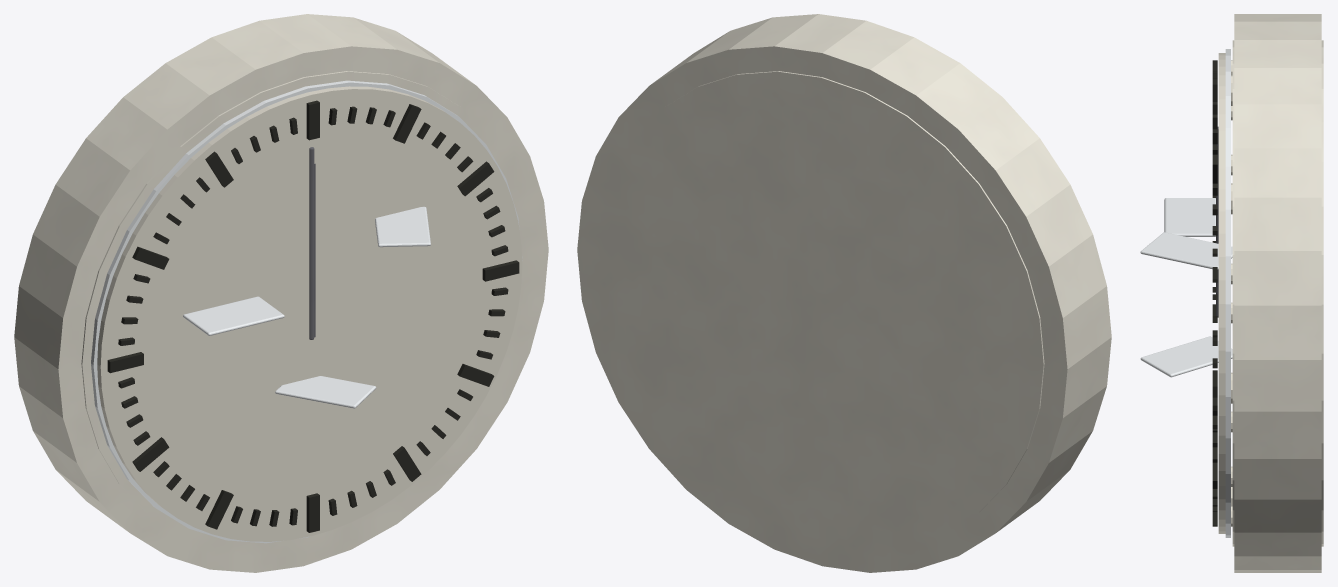
Rendered from PRP_WallClock_Broken.fbx.
3 renders of one model, left to right at view 1: azimuth 30°, elevation 25°; view 2: azimuth 150°, elevation 25°; view 3: azimuth 270°, elevation 25°, orthographic.
Parts seen in each view (by area): view 1: Clock_Body, Clock_Glass_Gone, Clock_Shard_01, Clock_Shard_03, Clock_Shard_02, Clock_Hand_S; view 2: Clock_Body; view 3: Clock_Body, Clock_Glass_Gone, Clock_Shard_01, Clock_Shard_03, Clock_Shard_02, Clock_Hand_S.
Boxes of the visible parts, x1,y1,x2,y2 form: Clock_Body: (14,14,548,572); Clock_Glass_Gone: (91,80,522,543); Clock_Shard_01: (183,296,284,335); Clock_Shard_03: (275,376,376,408); Clock_Shard_02: (375,206,430,247); Clock_Hand_S: (309,147,314,339); Clock_Body: (577,14,1111,572); Clock_Body: (1212,14,1323,572); Clock_Glass_Gone: (1225,49,1230,537); Clock_Shard_01: (1164,198,1215,236); Clock_Shard_03: (1140,336,1232,377); Clock_Shard_02: (1140,232,1232,269); Clock_Hand_S: (1216,126,1218,317).
Bounding box in the file's own units: 32 × 32 × 10.47.
